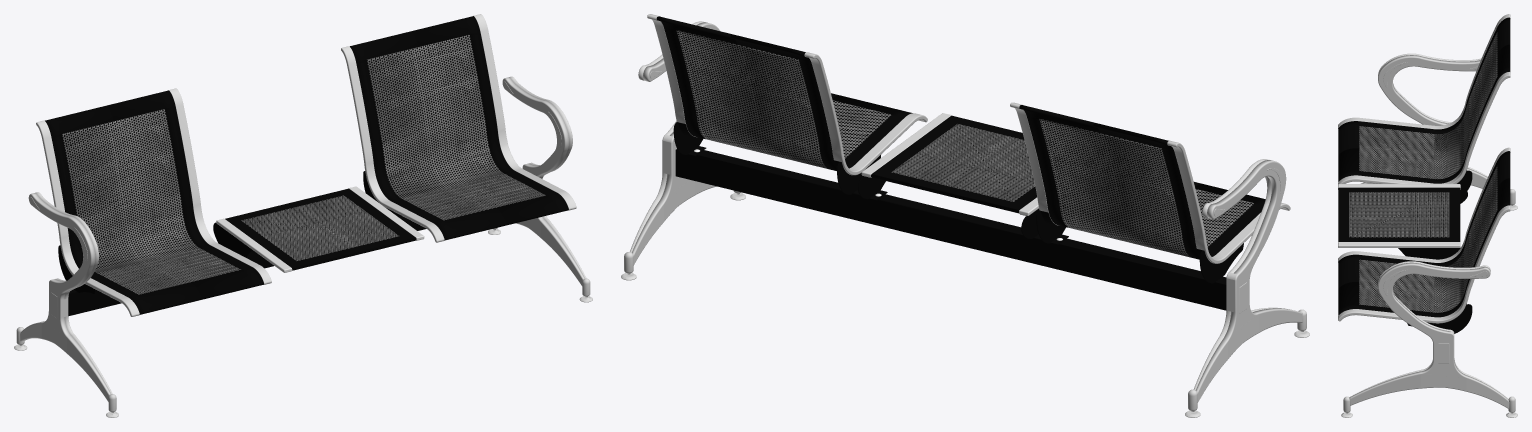
File: kursi tunggu 3.fbx
The picture shows the model from 3 angles, left to right: view 1: azimuth 30°, elevation 25°; view 2: azimuth 150°, elevation 25°; view 3: azimuth 270°, elevation 25°; orthographic projection. The views are drawn at different scales.
Visible parts, largest first — view 1: Component#2, Component#2.001, Component#17, Group#2.002, Group#2, Group#2.001, Group#2.003, Component#11.002, Component#12, Component#11.001, Group#4, Group#4.002 (+8 smaller); view 2: Component#6, Component#2, Component#2.001, Component#17, Component#11.002, Group#2.001, Group#2.003, Component#12, Component#11.001, Group#4, Group#2, Group#2.002 (+9 smaller); view 3: Component#2.001, Component#11, Component#2, Component#17, Component#12, Component#11.003, Group#2.003, Group#2.002, Group#2.001, Group#2, Group#4.001, Group#4.003 (+10 smaller).
Boxes of the visible parts, x1,y1,x2,y2 form: Component#2: [367, 34, 545, 220]; Component#2.001: [62, 109, 241, 294]; Component#17: [241, 195, 398, 260]; Group#2.002: [107, 90, 263, 299]; Group#2: [411, 16, 568, 225]; Group#2.001: [350, 31, 506, 240]; Group#2.003: [45, 105, 201, 314]; Component#11.002: [20, 193, 110, 401]; Component#12: [225, 188, 416, 270]; Component#11.001: [502, 77, 584, 285]; Group#4: [341, 46, 444, 242]; Group#4.002: [36, 120, 139, 316]; Component#6: [675, 149, 1226, 310]; Component#2: [676, 30, 891, 169]; Component#2.001: [1039, 118, 1254, 257]; Component#17: [891, 124, 1034, 201]; Component#11.002: [1195, 160, 1302, 402]; Group#2.001: [730, 34, 912, 170]; Group#2.003: [1093, 123, 1265, 259]; Component#12: [871, 115, 1036, 213]; Component#11.001: [632, 22, 719, 265]; Group#4: [804, 52, 927, 175]; Group#2: [656, 16, 838, 139]; Group#2.002: [1019, 105, 1202, 227]; Component#2.001: [1359, 32, 1497, 179]; Component#11: [1349, 262, 1509, 408]; Component#2: [1359, 166, 1497, 312]; Component#17: [1349, 192, 1449, 237]; Component#12: [1338, 187, 1460, 241]; Component#11.003: [1362, 55, 1487, 188]; Group#2.003: [1338, 17, 1510, 154]; Group#2.002: [1338, 44, 1510, 183]; Group#2.001: [1338, 151, 1510, 288]; Group#2: [1338, 178, 1510, 317]; Group#4.001: [1338, 205, 1510, 323]; Group#4.003: [1338, 72, 1510, 184].
Size of the model in its own units: 181 by 79.75 by 64.89.
6 materials, 1 textured.
